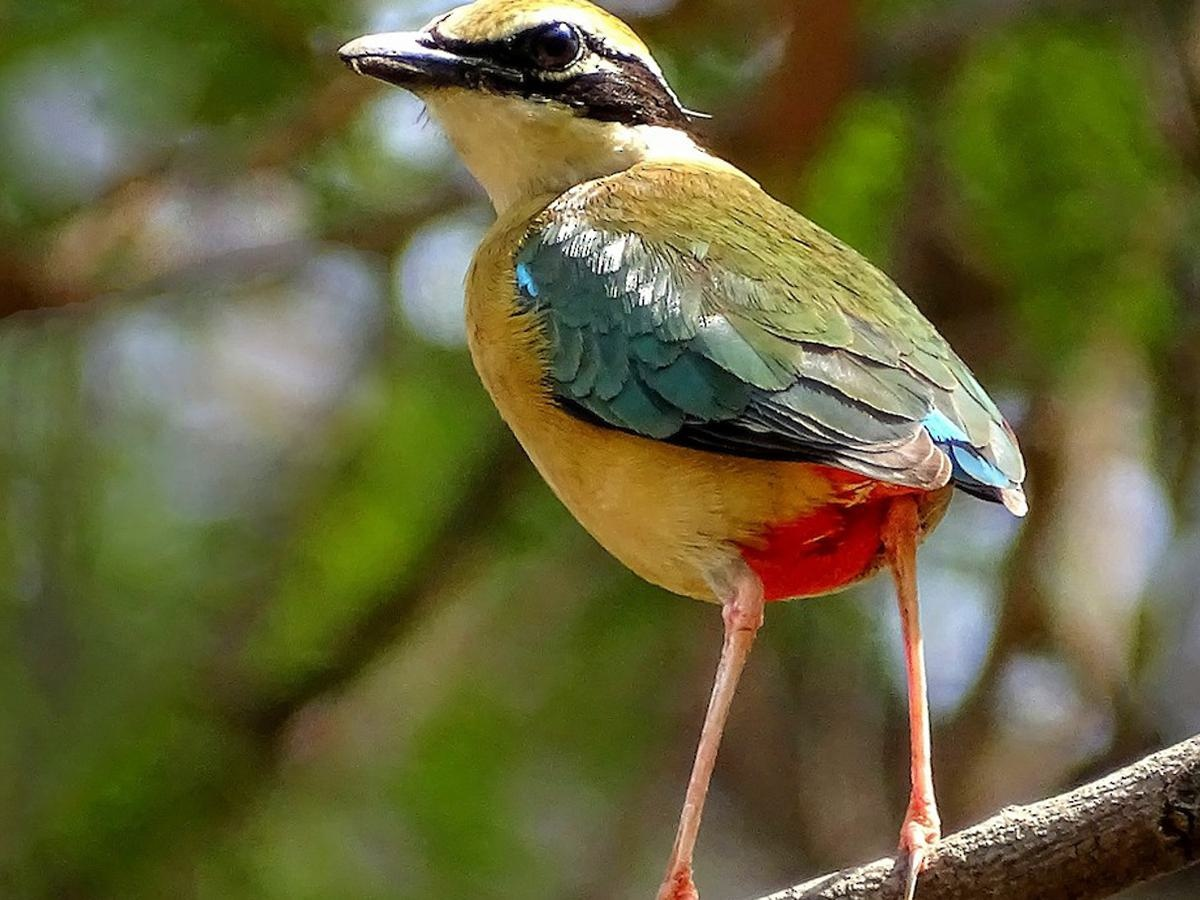pitta: (347, 4, 1045, 857)
